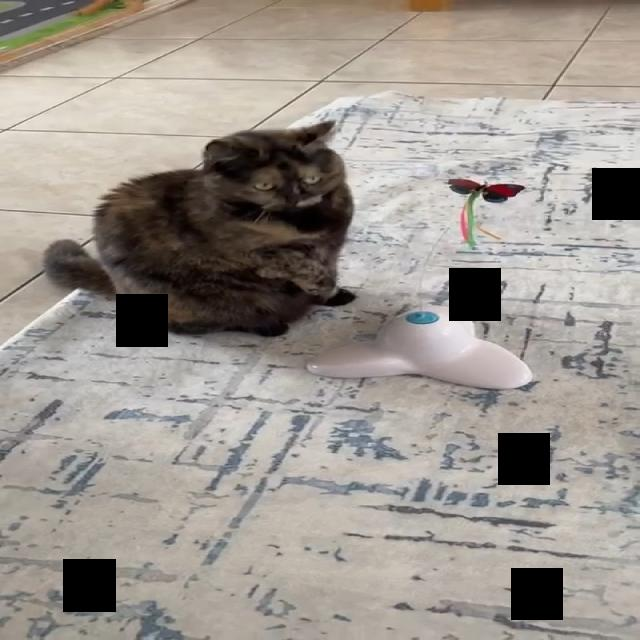authorized: (41, 120, 358, 338)
